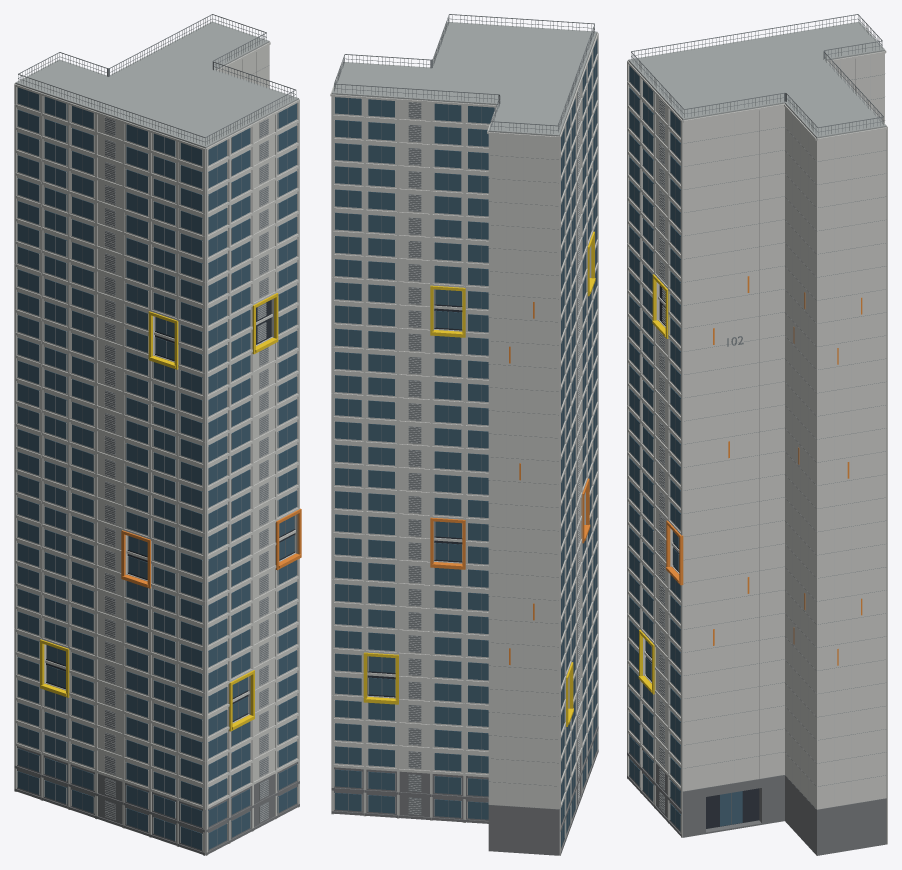
Rendered from bespoke-songpa-helio-city-102.glb.
3 renders of one model, left to right at view 1: azimuth 30°, elevation 25°; view 2: azimuth 150°, elevation 25°; view 3: azimuth 270°, elevation 25°, orthographic.
Parts seen in each view (by area): view 1: Helio102_editable_Helio102_dark_blue_grey_glazing002, Helio102_editable_Helio102_white_slab_frames002, Helio102_editable_Helio102_grey_service_grille002, Helio102_editable_Helio102_low_roof_deck002, Helio102_editable_Helio102_blankwall_grey_panels002, Helio102_editable_Helio102_dark_grey_twofloor_base002, Helio102_editable_Helio102_yellow_projecting_rectangular_fra, Helio102_editable_Helio102_orange_narrow_accent002, Helio102_editable_Helio102_deep_shaded_frame_recess002; view 2: Helio102_editable_Helio102_white_slab_frames002, Helio102_editable_Helio102_dark_blue_grey_glazing002, Helio102_editable_Helio102_grey_service_grille002, Helio102_editable_Helio102_low_roof_deck002, Helio102_editable_Helio102_dark_grey_twofloor_base002, Helio102_editable_Helio102_blankwall_grey_panels002, Helio102_editable_Helio102_yellow_projecting_rectangular_fra, Helio102_editable_Helio102_orange_narrow_accent002, Helio102_editable_Helio102_deep_shaded_frame_recess002; view 3: Helio102_editable_Helio102_white_slab_frames002, Helio102_editable_Helio102_dark_blue_grey_glazing002, Helio102_editable_Helio102_low_roof_deck002, Helio102_editable_Helio102_grey_service_grille002, Helio102_editable_Helio102_dark_grey_twofloor_base002, Helio102_editable_Helio102_blankwall_grey_panels002, Helio102_editable_Helio102_deep_shaded_frame_recess002, Helio102_editable_Helio102_orange_narrow_accent002, Helio102_editable_Helio102_yellow_projecting_rectangular_fra.
Part boxes in pixels (bbox=[...]): Helio102_editable_Helio102_dark_blue_grey_glazing002: bbox=[17, 87, 296, 849]; Helio102_editable_Helio102_white_slab_frames002: bbox=[14, 42, 299, 855]; Helio102_editable_Helio102_grey_service_grille002: bbox=[18, 14, 296, 846]; Helio102_editable_Helio102_low_roof_deck002: bbox=[15, 21, 298, 148]; Helio102_editable_Helio102_blankwall_grey_panels002: bbox=[105, 52, 268, 821]; Helio102_editable_Helio102_dark_grey_twofloor_base002: bbox=[14, 746, 299, 855]; Helio102_editable_Helio102_yellow_projecting_rectangular_fra: bbox=[40, 293, 278, 731]; Helio102_editable_Helio102_orange_narrow_accent002: bbox=[121, 508, 301, 588]; Helio102_editable_Helio102_deep_shaded_frame_recess002: bbox=[46, 300, 294, 721]; Helio102_editable_Helio102_white_slab_frames002: bbox=[330, 23, 598, 855]; Helio102_editable_Helio102_dark_blue_grey_glazing002: bbox=[335, 39, 597, 847]; Helio102_editable_Helio102_grey_service_grille002: bbox=[334, 14, 595, 843]; Helio102_editable_Helio102_low_roof_deck002: bbox=[331, 22, 597, 136]; Helio102_editable_Helio102_dark_grey_twofloor_base002: bbox=[331, 726, 598, 855]; Helio102_editable_Helio102_blankwall_grey_panels002: bbox=[409, 87, 579, 814]; Helio102_editable_Helio102_yellow_projecting_rectangular_fra: bbox=[363, 231, 595, 726]; Helio102_editable_Helio102_orange_narrow_accent002: bbox=[430, 302, 590, 664]; Helio102_editable_Helio102_deep_shaded_frame_recess002: bbox=[367, 289, 462, 697]; Helio102_editable_Helio102_white_slab_frames002: bbox=[627, 23, 887, 844]; Helio102_editable_Helio102_dark_blue_grey_glazing002: bbox=[629, 66, 742, 830]; Helio102_editable_Helio102_low_roof_deck002: bbox=[628, 21, 886, 138]; Helio102_editable_Helio102_grey_service_grille002: bbox=[631, 14, 885, 825]; Helio102_editable_Helio102_dark_grey_twofloor_base002: bbox=[627, 734, 886, 855]; Helio102_editable_Helio102_blankwall_grey_panels002: bbox=[659, 56, 870, 812]; Helio102_editable_Helio102_deep_shaded_frame_recess002: bbox=[646, 285, 759, 828]; Helio102_editable_Helio102_orange_narrow_accent002: bbox=[666, 276, 862, 665]; Helio102_editable_Helio102_yellow_projecting_rectangular_fra: bbox=[638, 274, 669, 694].
Size of the model in its own units: 30.2 by 87.8 by 28.52.
